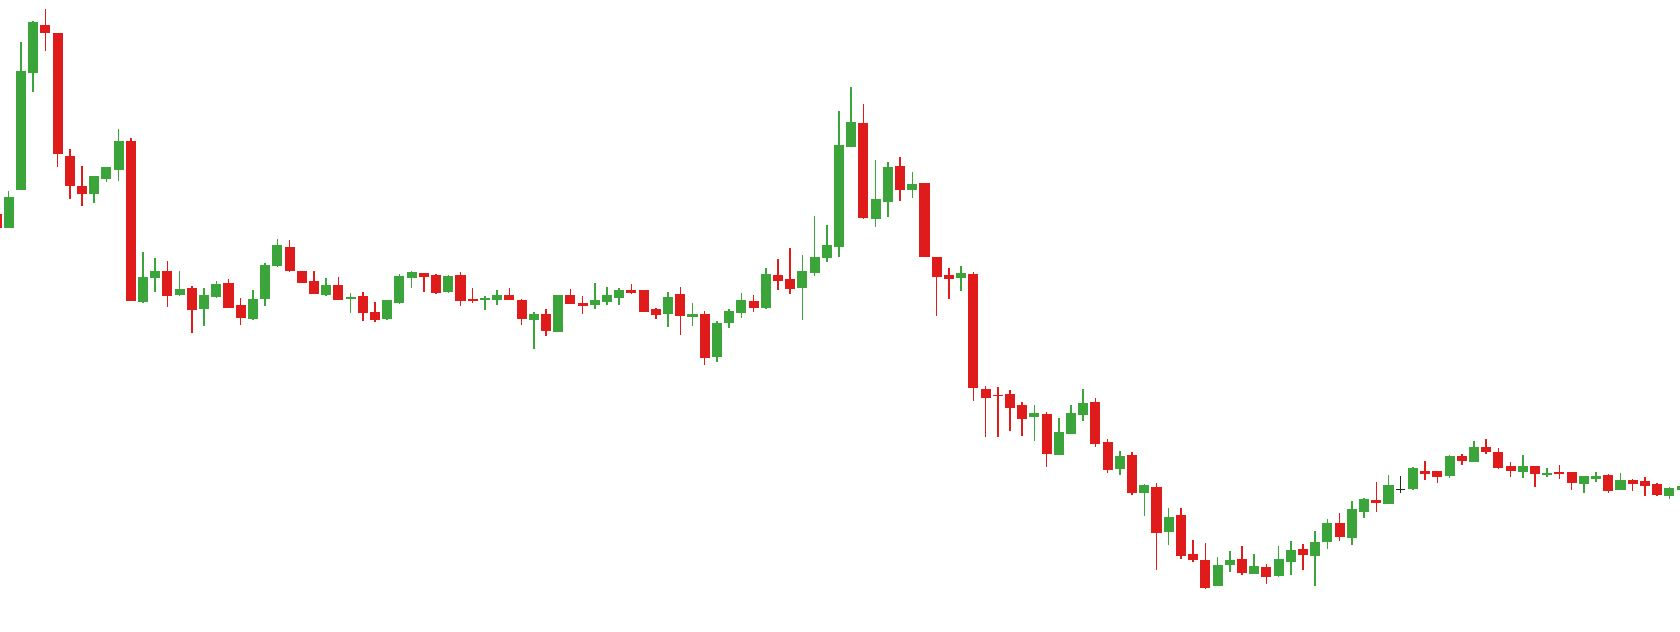buy: (525, 298, 725, 366)
